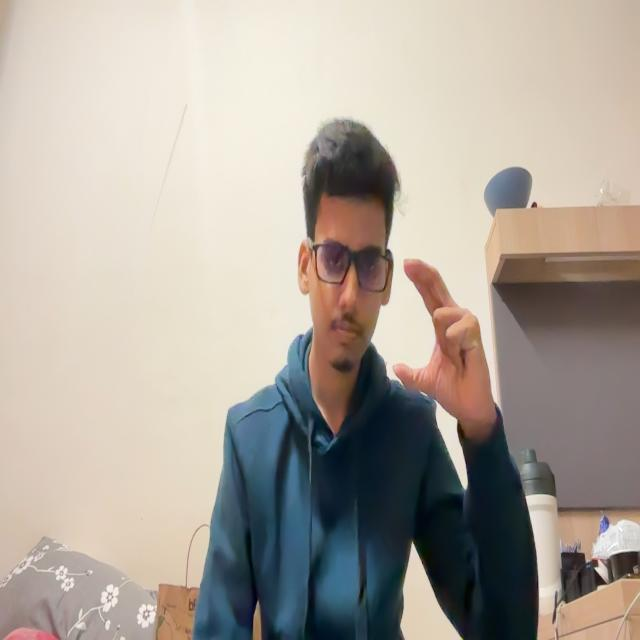No: (386, 242, 502, 430)
